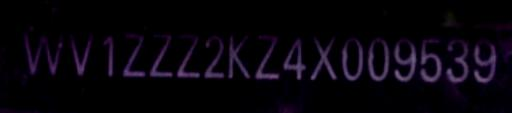letter: (19, 26, 65, 75), (66, 26, 98, 75), (118, 29, 150, 76), (310, 34, 340, 83), (172, 32, 202, 79), (252, 36, 282, 83), (283, 34, 309, 83), (418, 37, 446, 82), (472, 39, 500, 84), (225, 34, 251, 81), (390, 36, 416, 83), (446, 37, 472, 82), (340, 36, 364, 83), (364, 36, 388, 83), (150, 29, 172, 78), (202, 32, 224, 79), (98, 26, 118, 75)
